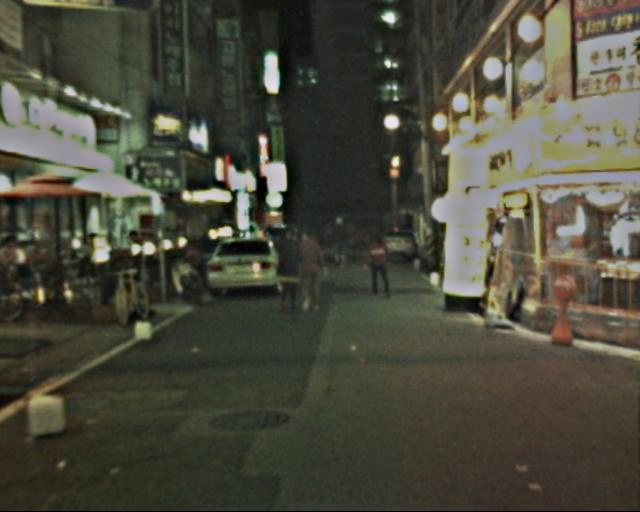person: (295, 225, 331, 318), (271, 225, 305, 319), (362, 225, 394, 302), (326, 211, 353, 272)
